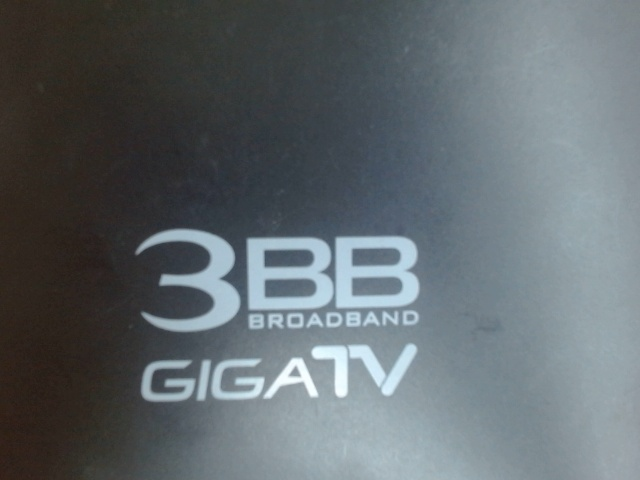AG_3BB: (126, 213, 432, 412)
